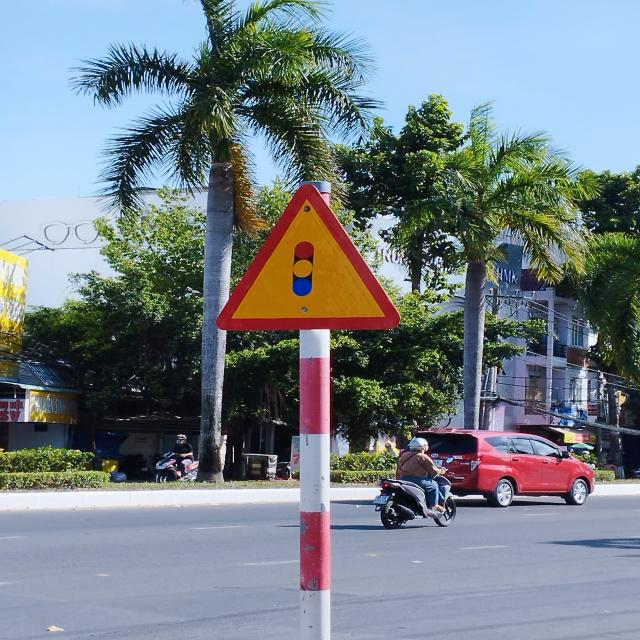Duong_Co_Go_Giam_Toc: (215, 183, 401, 331)
